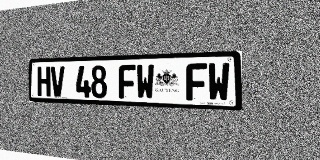4: (76, 66, 91, 98)
8: (91, 65, 107, 98)
F: (186, 63, 207, 101), (119, 64, 136, 99)
H: (37, 66, 50, 96)
V: (51, 66, 64, 97)
W: (208, 62, 230, 102), (136, 64, 154, 99)
